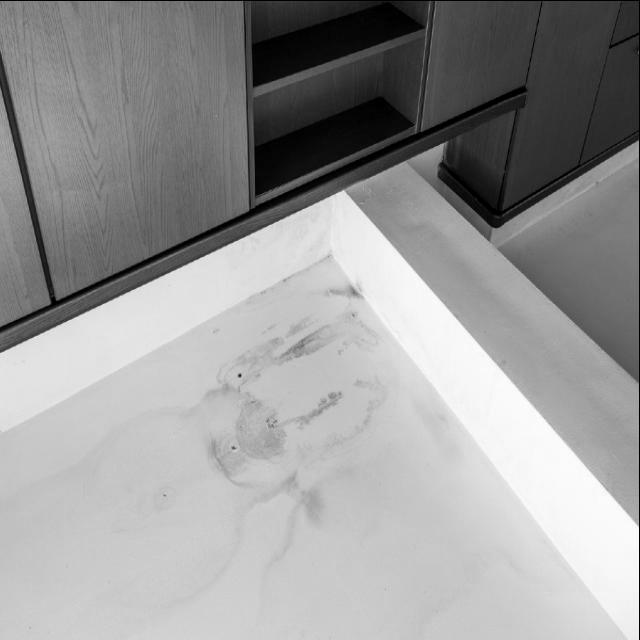pin holes: (227, 428, 246, 456), (161, 478, 177, 505), (231, 368, 257, 381)
stain marks: (0, 255, 471, 640), (270, 486, 336, 554), (207, 336, 278, 394), (402, 397, 458, 458), (346, 369, 389, 436), (237, 401, 288, 456), (284, 324, 342, 362), (292, 388, 340, 426), (259, 468, 301, 496), (314, 280, 364, 299)
